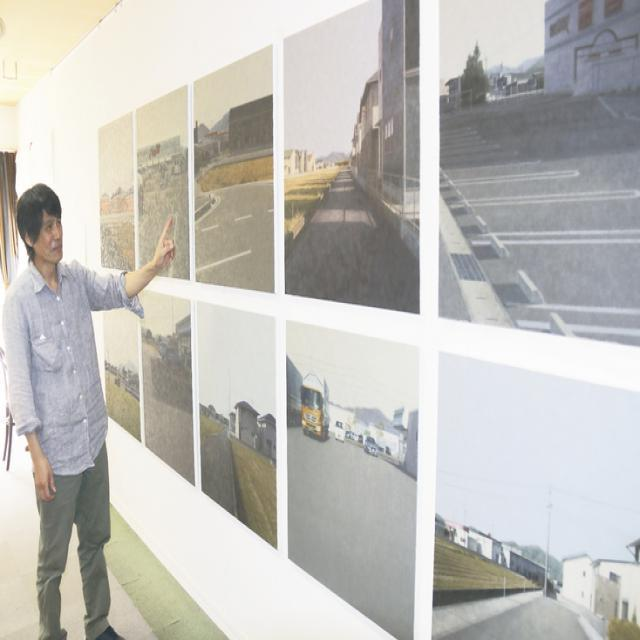direk: (4, 180, 178, 640)
